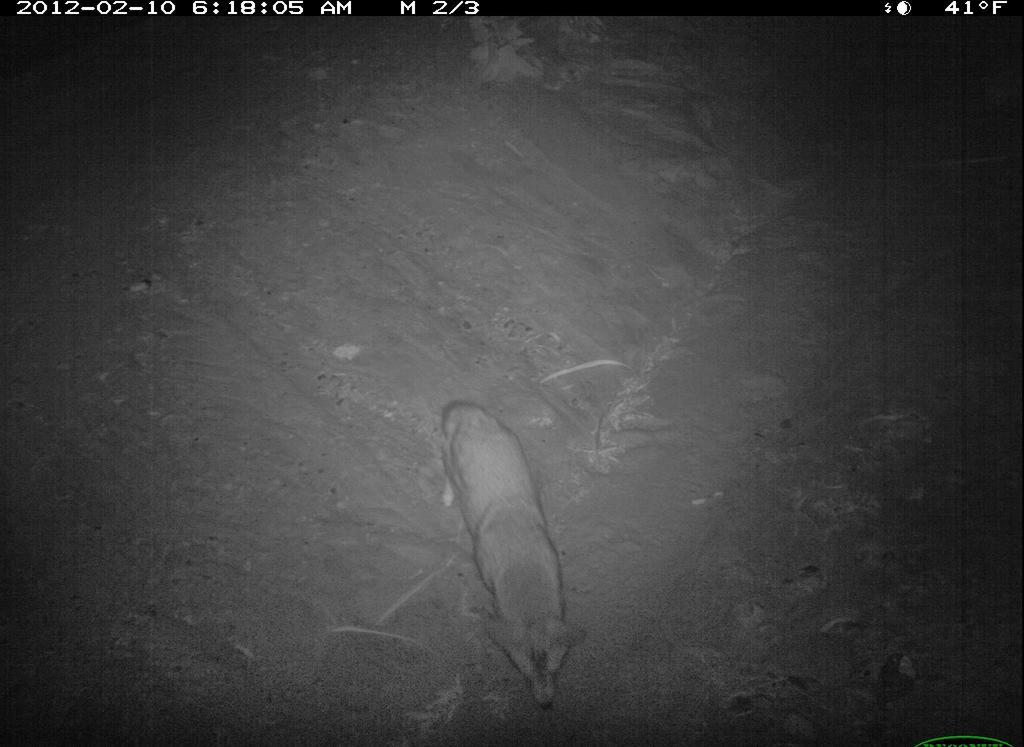coyote: (434, 395, 583, 710)
